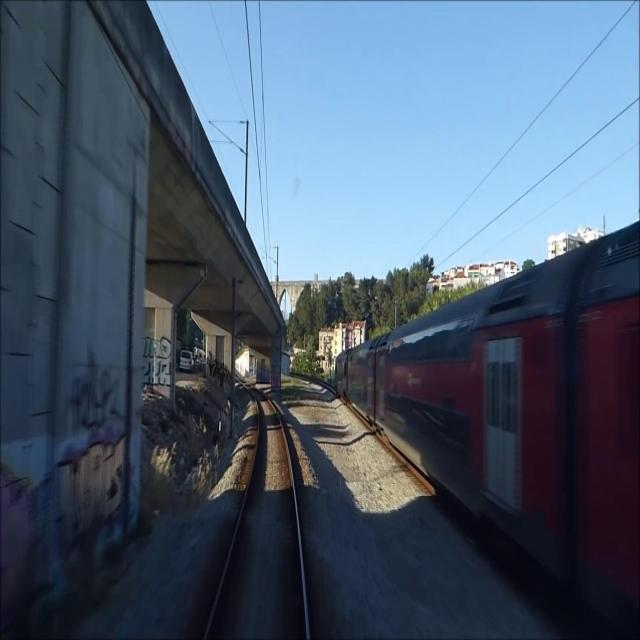rail-track: (208, 391, 305, 639)
